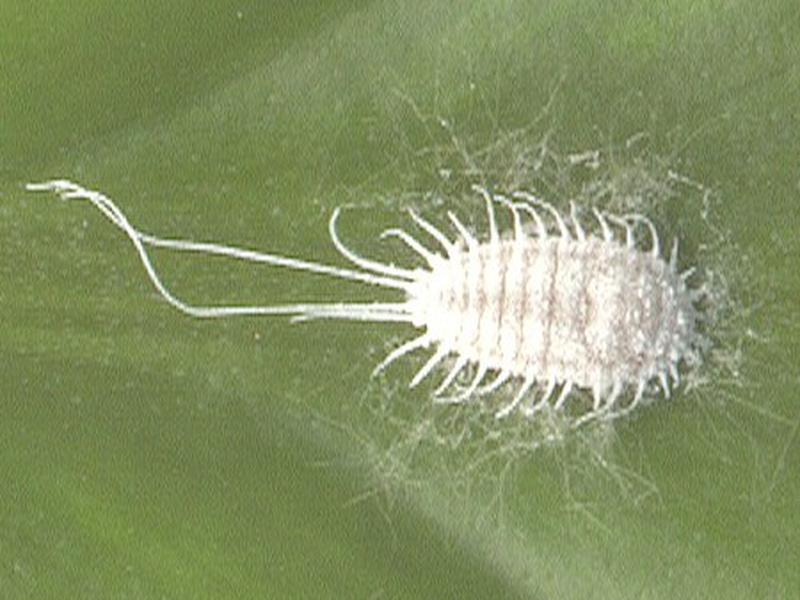Mealy_bug: (385, 198, 730, 413)
